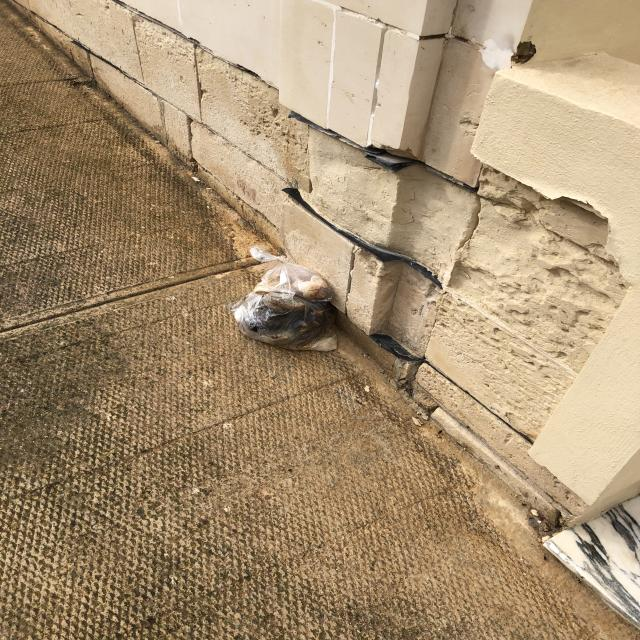Organic Waste -White Bag-: (229, 247, 337, 353)
